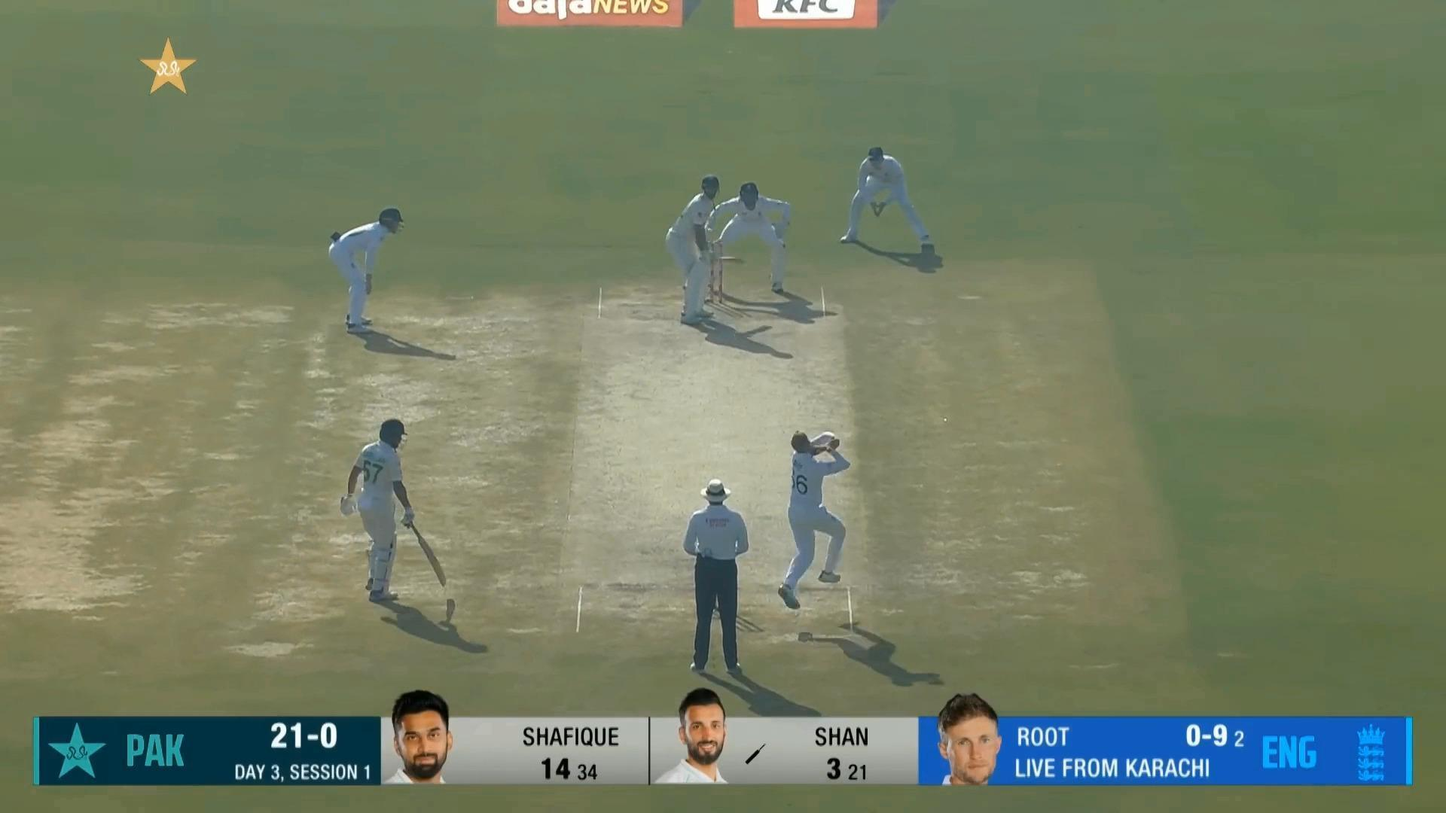BM 1: (666, 175, 746, 324)
BO: (773, 428, 855, 612)
